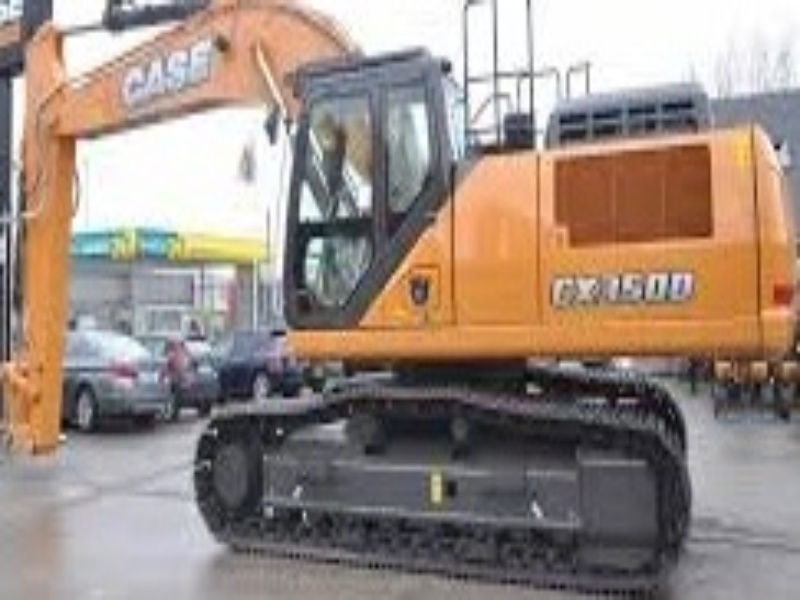wajueji: (195, 8, 800, 594)
